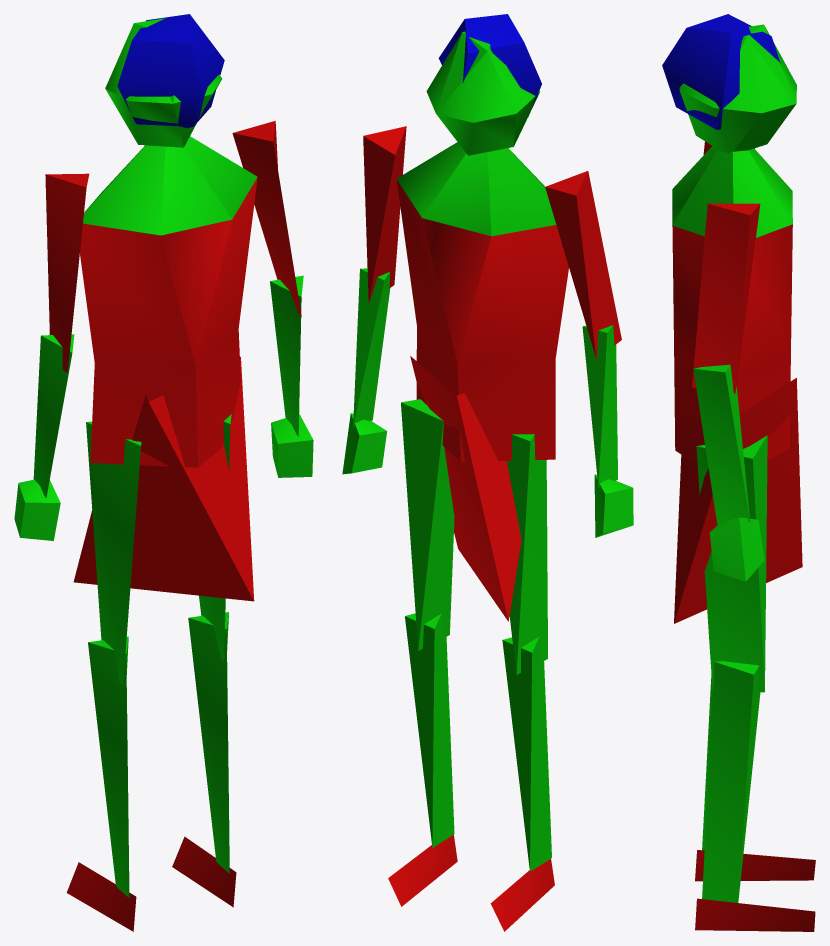
Rendered from stand_idle_lod2.glb.
3 views of the same model, side by side, from view 1: azimuth 30°, elevation 25°; view 2: azimuth 150°, elevation 25°; view 3: azimuth 270°, elevation 25° (orthographic). The views are drawn at different scales.
Parts seen in each view (by area): view 1: OUT_2; view 2: OUT_2; view 3: OUT_2.
Part boxes in pixels (box(x1,y1,x2,y2)): OUT_2: box(14, 14, 313, 931); OUT_2: box(342, 14, 633, 931); OUT_2: box(662, 14, 815, 931).
Bounding box in the file's own units: 0.5787 × 1.69 × 0.2659.
